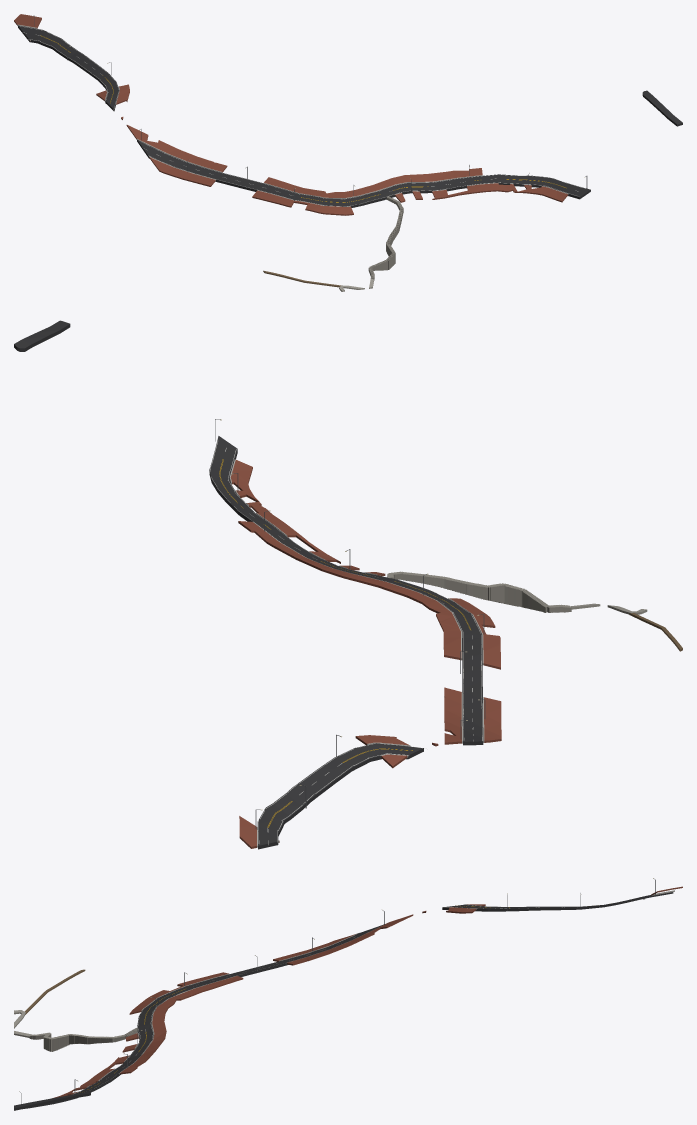
Rendered from 17-109460-59484.027daab6.glb.
3 renders of one model, top to bottom at view 1: azimuth 30°, elevation 25°; view 2: azimuth 150°, elevation 25°; view 3: azimuth 270°, elevation 25°, orthographic. The views are drawn at different scales.
Size of the model in its own units: 236 by 57.91 by 292.
